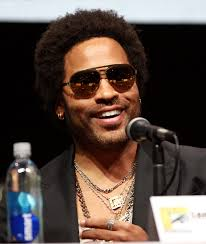black_male: (58, 43, 143, 146)
